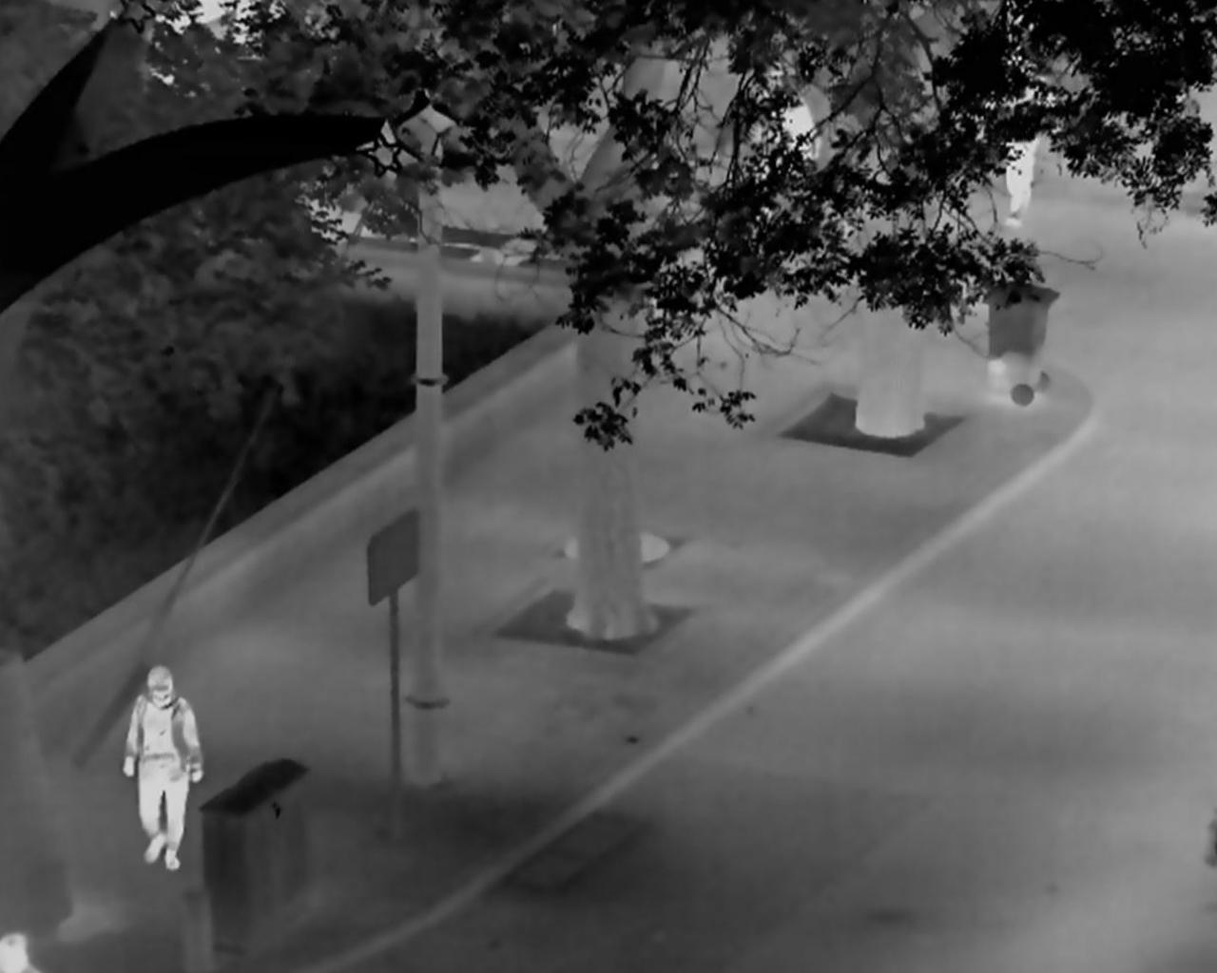person: (122, 662, 205, 874), (995, 65, 1054, 228), (740, 58, 823, 165)
